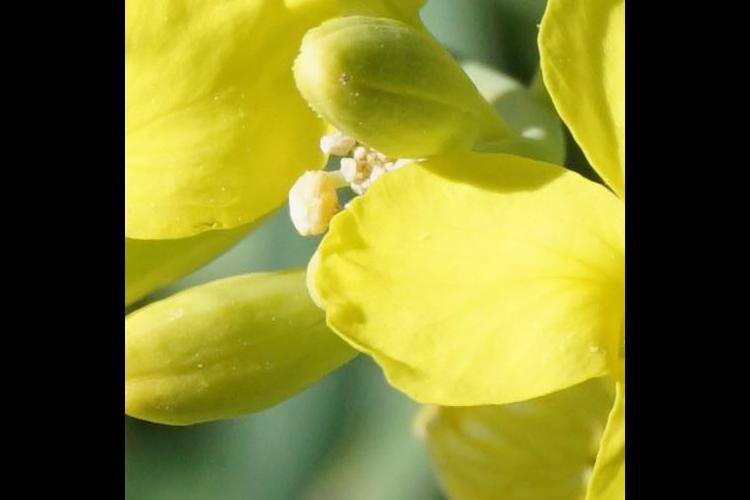bud: (131, 265, 342, 424), (290, 16, 494, 169)
yellow: (344, 1, 626, 500), (141, 1, 317, 229)
